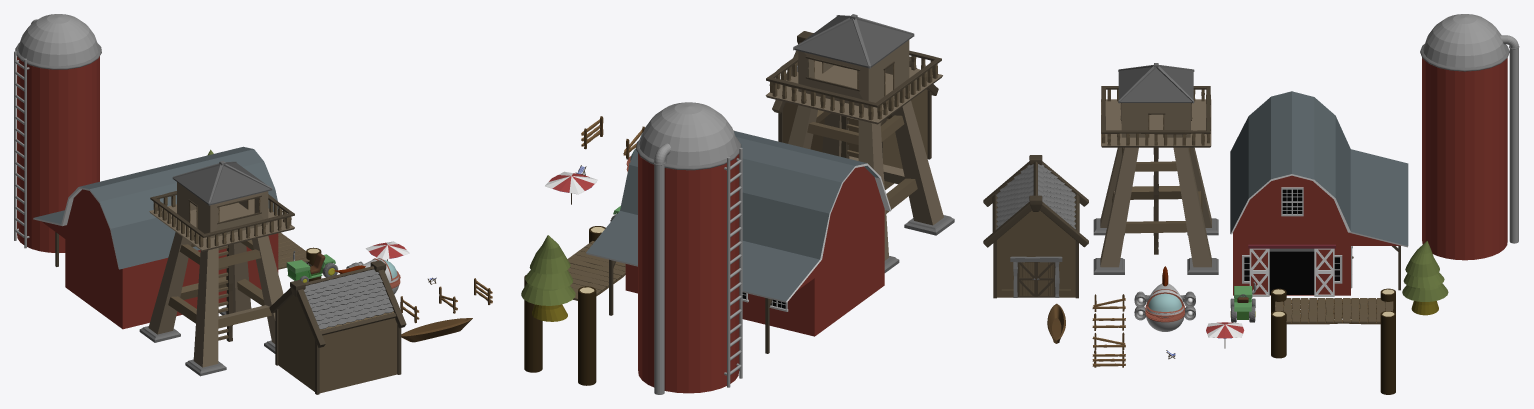
File: Farm Models.fbx
The picture shows the model from 3 angles, left to right: view 1: azimuth 30°, elevation 25°; view 2: azimuth 150°, elevation 25°; view 3: azimuth 270°, elevation 25°; orthographic projection. The views are drawn at different scales.
Parts seen in each view (by area): view 1: props_for_game:polySurface20, pCube51, pSphere2, polySurface80, polySurface32, pCube191, polySurface18, pCube169, transform15; view 2: pSphere2, pCube51, props_for_game:polySurface20, polySurface18, pCylinder14, polySurface80, transform15; view 3: pCube51, pSphere2, props_for_game:polySurface20, polySurface80, polySurface18, pCube169, pCylinder14, polySurface32, transform15, pCube191.
Part boxes in pixels (x1=…): props_for_game:polySurface20: x1=139, y1=161, x2=294, y2=376; pCube51: x1=33, y1=146, x2=278, y2=329; pSphere2: x1=14, y1=14, x2=101, y2=252; polySurface80: x1=269, y1=260, x2=406, y2=394; polySurface32: x1=286, y1=251, x2=337, y2=282; pCube191: x1=401, y1=318, x2=472, y2=342; polySurface18: x1=278, y1=232, x2=321, y2=281; pCube169: x1=334, y1=258, x2=400, y2=294; transform15: x1=366, y1=241, x2=409, y2=260; pSphere2: x1=636, y1=102, x2=742, y2=394; pCube51: x1=586, y1=131, x2=891, y2=353; props_for_game:polySurface20: x1=765, y1=14, x2=954, y2=272; polySurface18: x1=524, y1=226, x2=625, y2=385; pCylinder14: x1=521, y1=235, x2=575, y2=321; polySurface80: x1=772, y1=31, x2=938, y2=189; transform15: x1=545, y1=171, x2=597, y2=204; pCube51: x1=1230, y1=91, x2=1408, y2=296; pSphere2: x1=1420, y1=14, x2=1519, y2=260; props_for_game:polySurface20: x1=1093, y1=63, x2=1218, y2=274; polySurface80: x1=983, y1=155, x2=1088, y2=298; polySurface18: x1=1271, y1=288, x2=1395, y2=394; pCube169: x1=1134, y1=266, x2=1195, y2=331; pCylinder14: x1=1402, y1=241, x2=1448, y2=315; polySurface32: x1=1230, y1=281, x2=1256, y2=322; transform15: x1=1206, y1=322, x2=1244, y2=348; pCube191: x1=1047, y1=303, x2=1065, y2=343.
Bounding box in the file's own units: 1092 × 963 × 1605.
